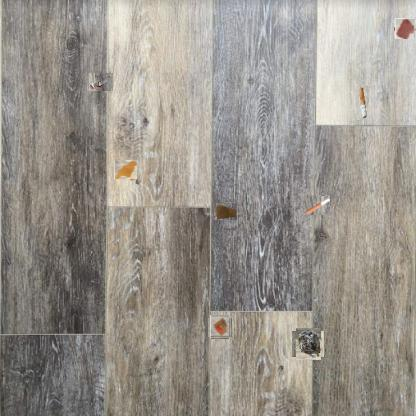dirty: (294, 329, 322, 359), (304, 195, 330, 215), (209, 317, 231, 338), (213, 202, 237, 220), (89, 73, 113, 91), (357, 86, 369, 120)
liquid: (115, 159, 137, 180), (394, 18, 415, 39)
